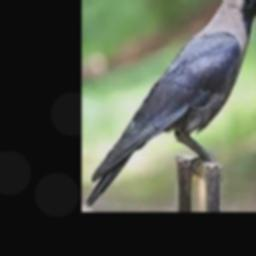Crow: (86, 0, 256, 207)
